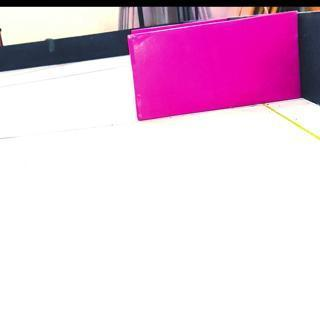xparking: (131, 28, 300, 108)
